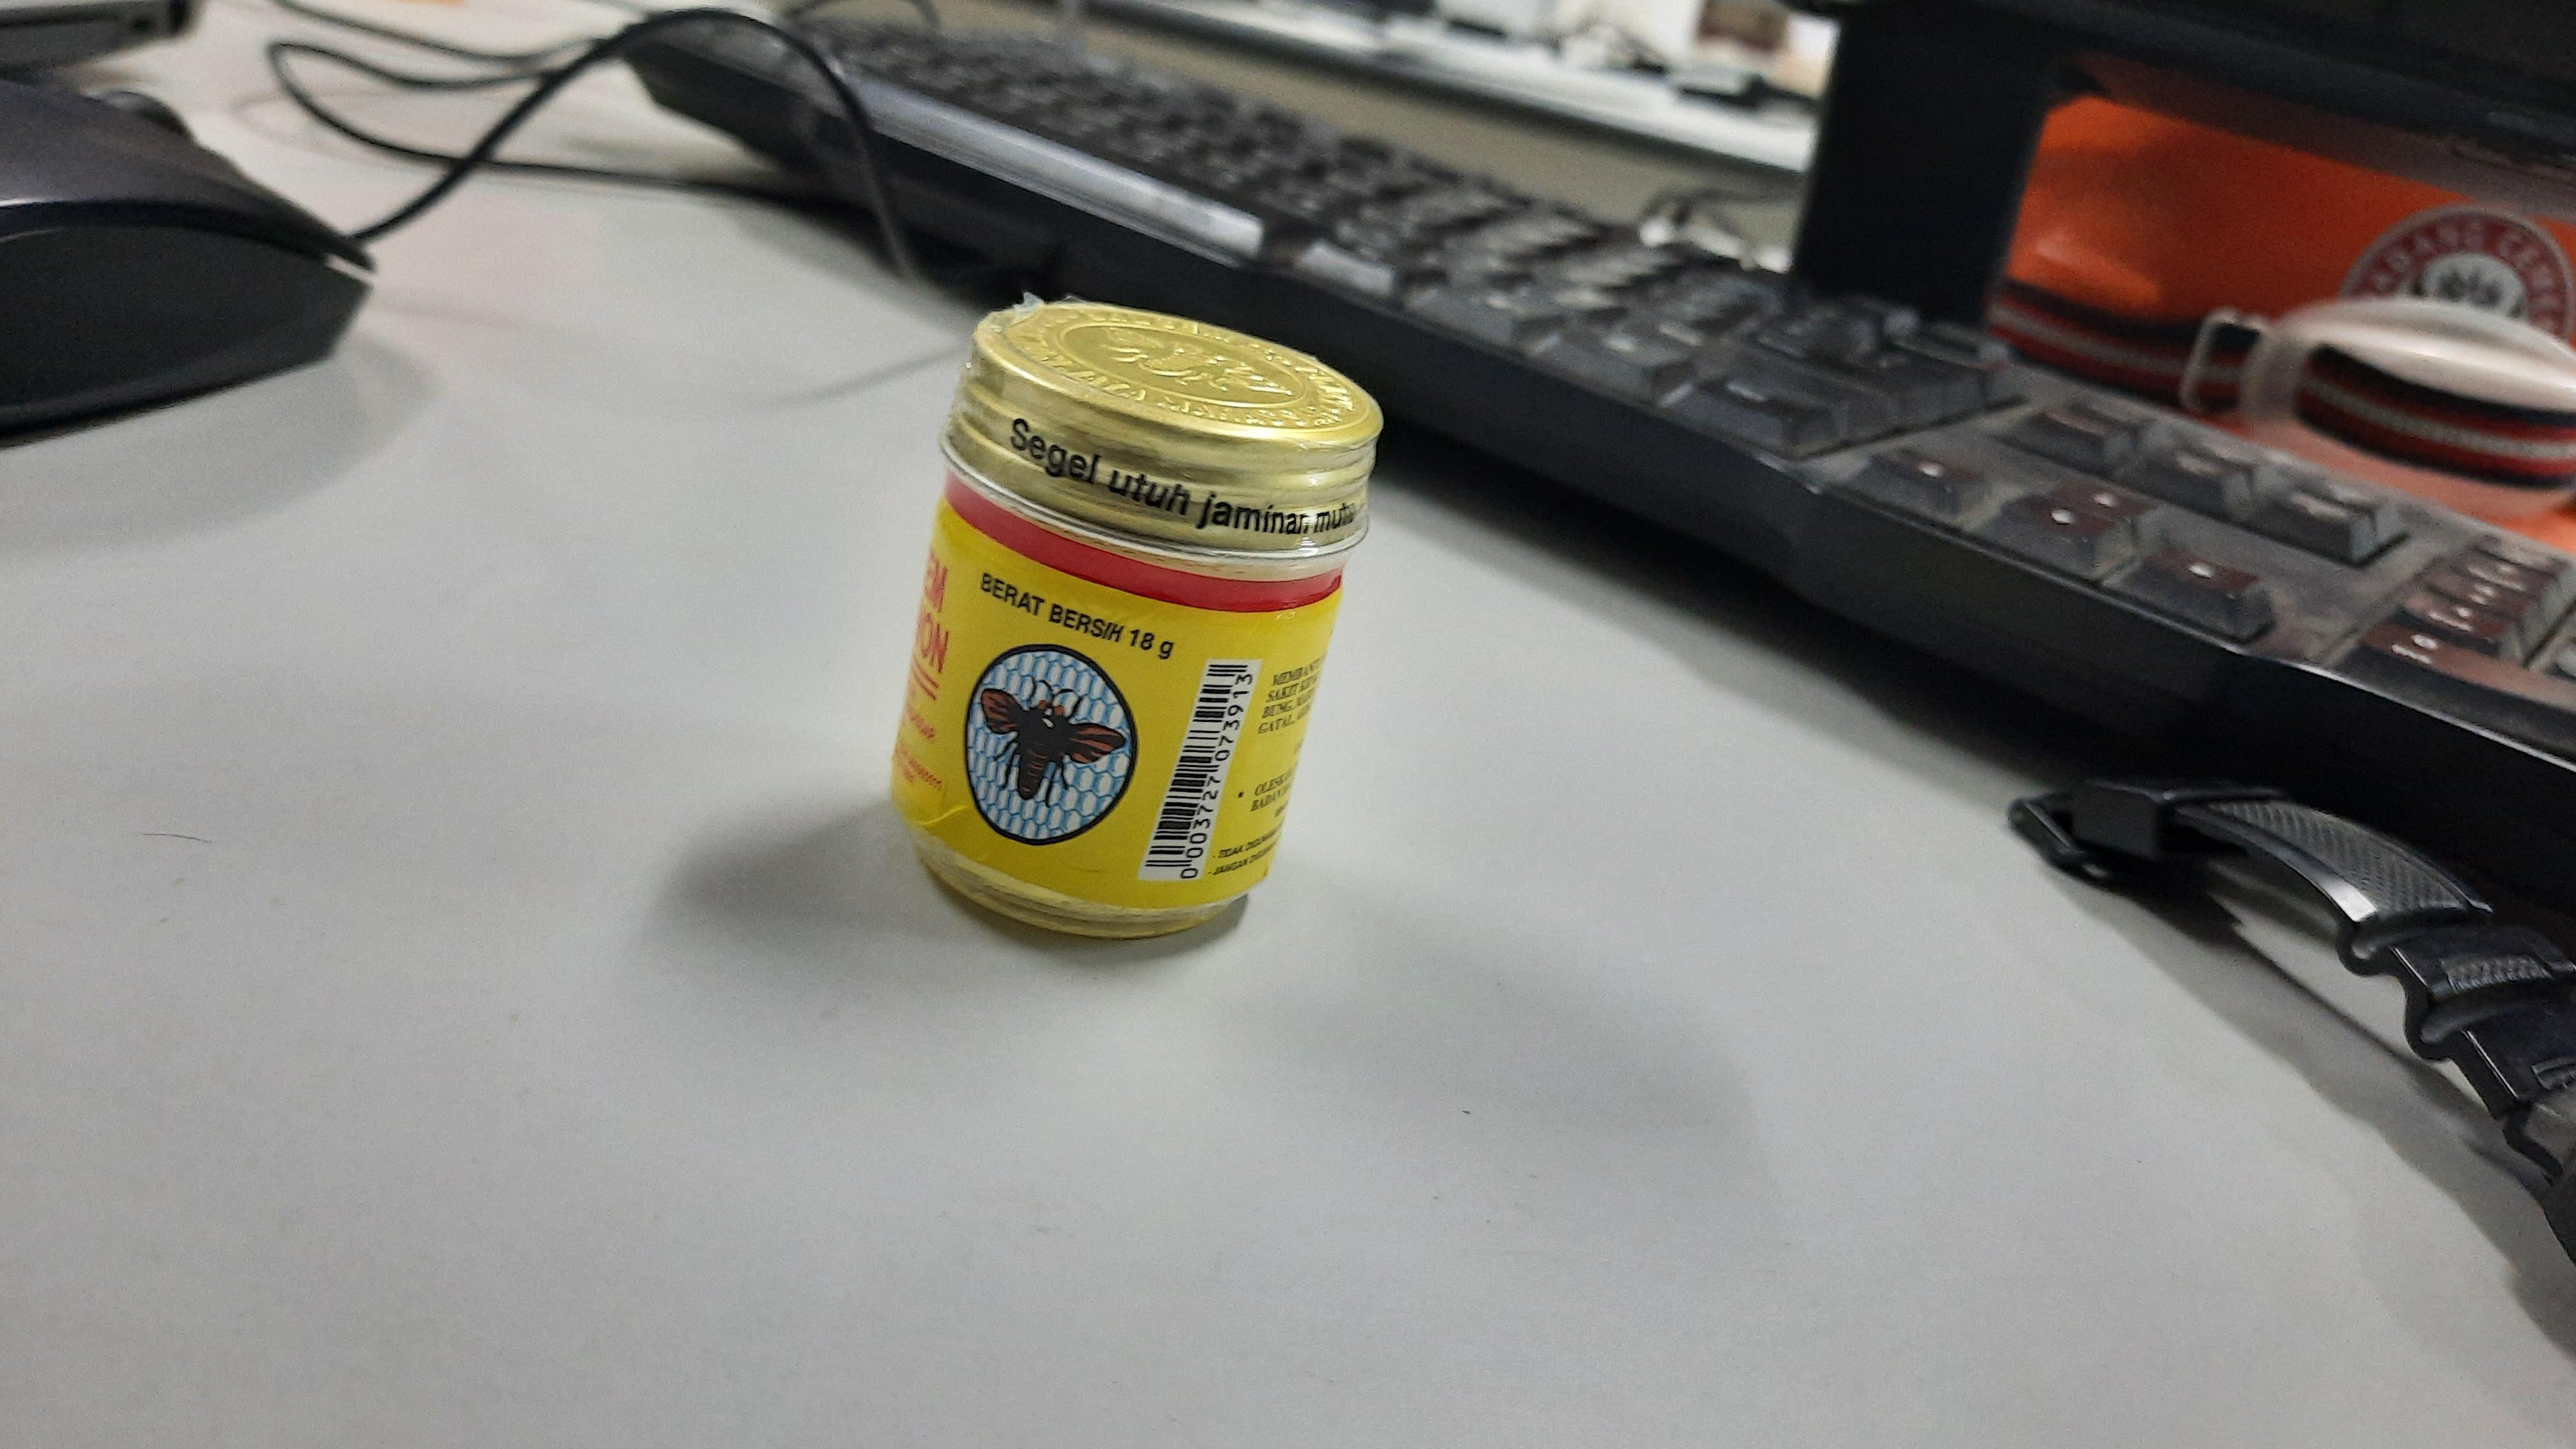jars: (890, 290, 1382, 952)
